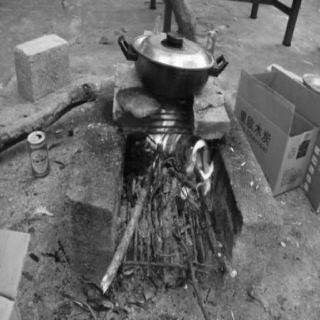Fire: (146, 104, 217, 197)
